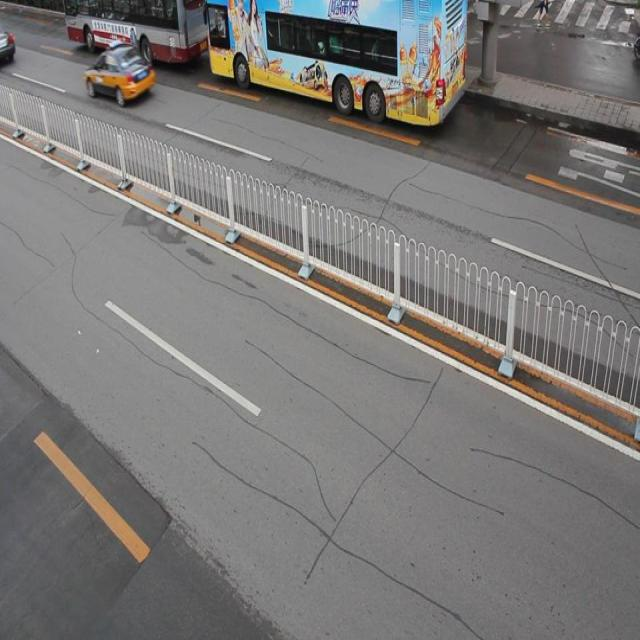car: (85, 42, 158, 106)
van: (207, 1, 466, 134), (65, 1, 210, 70)
